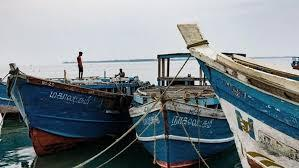fishing boat: (128, 50, 251, 168), (6, 59, 147, 158)
